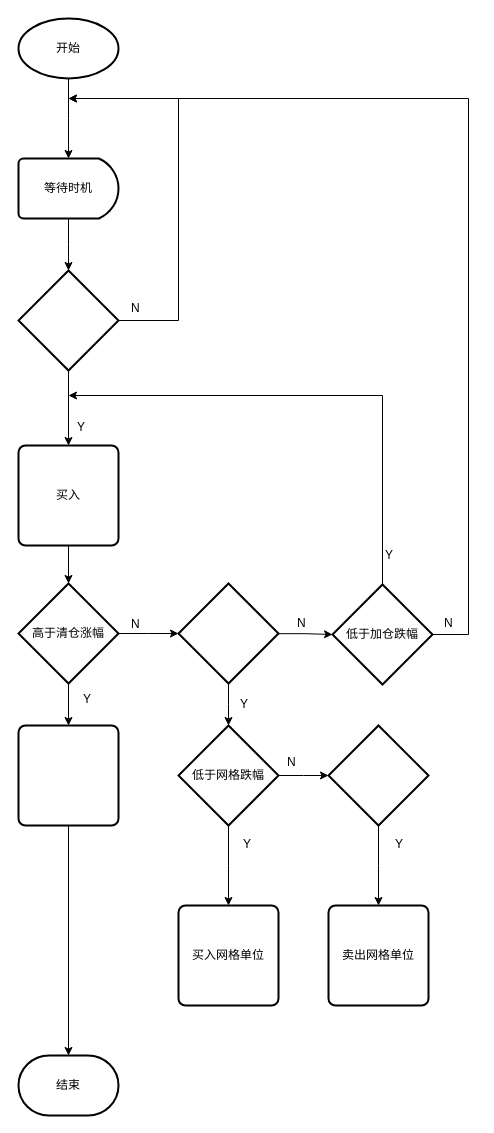
This 494x1133 diagram has some shape labels left out. The shapes that lost their labels are listed below. From the top down, each one's box as (x1, y1, x2, y2) in pixels, then its label:
(17, 269, 119, 371): 等待低于建仓价
(177, 582, 279, 684): 达到网格仓位
(17, 724, 119, 826): 清仓
(327, 724, 429, 826): 高于网格涨幅
